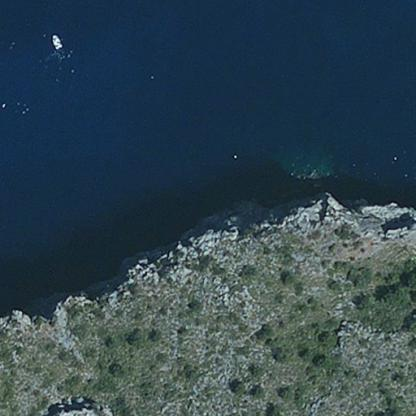ship: (49, 40, 64, 43)
